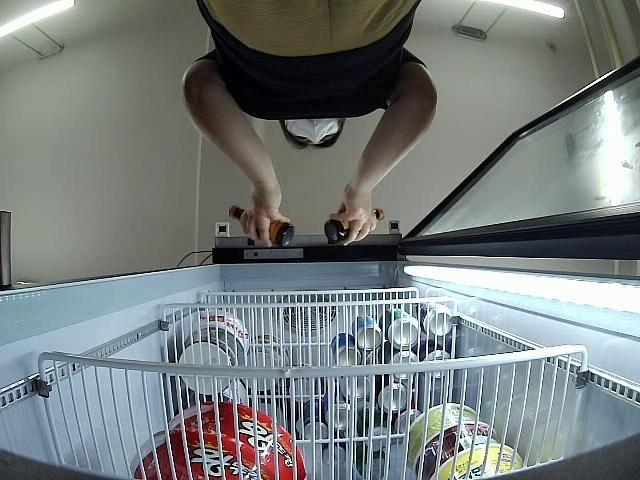17_vita500: (229, 204, 294, 246), (324, 210, 384, 244)
